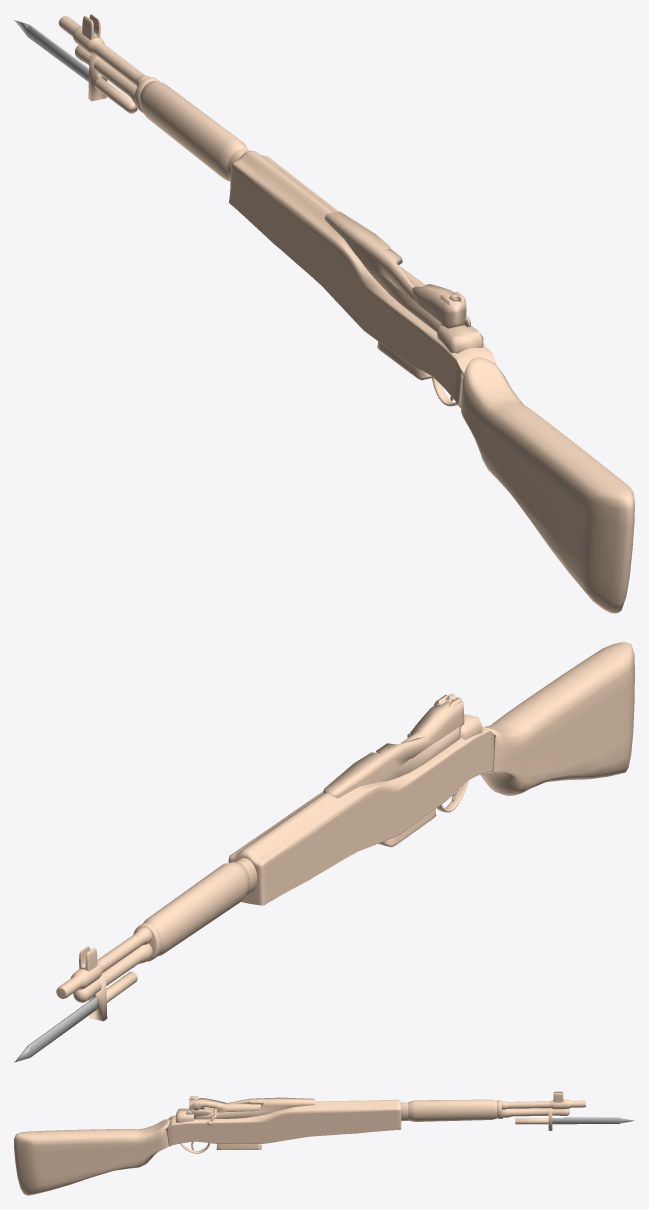
File: TURBOSQUID_M1_GARAND.fbx
The picture shows the model from 3 angles, top to bottom: view 1: azimuth 30°, elevation 25°; view 2: azimuth 150°, elevation 25°; view 3: azimuth 270°, elevation 25°; orthographic projection. The views are drawn at different scales.
Parts seen in each view (by area): view 1: Cube.007; view 2: Cube.007; view 3: Cube.007.
Part boxes in pixels (left/top/right/bottom): Cube.007: left=14, top=14, right=634, bottom=613; Cube.007: left=14, top=642, right=634, bottom=1062; Cube.007: left=14, top=1091, right=634, bottom=1195.
Bounding box in the file's own units: 0.4638 × 1.79 × 9.64.
